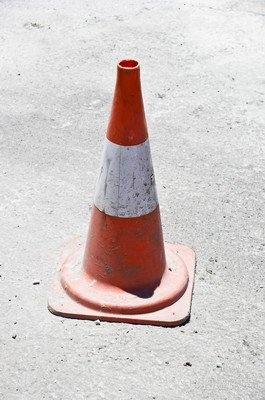cone_barrel: (73, 59, 175, 293)
